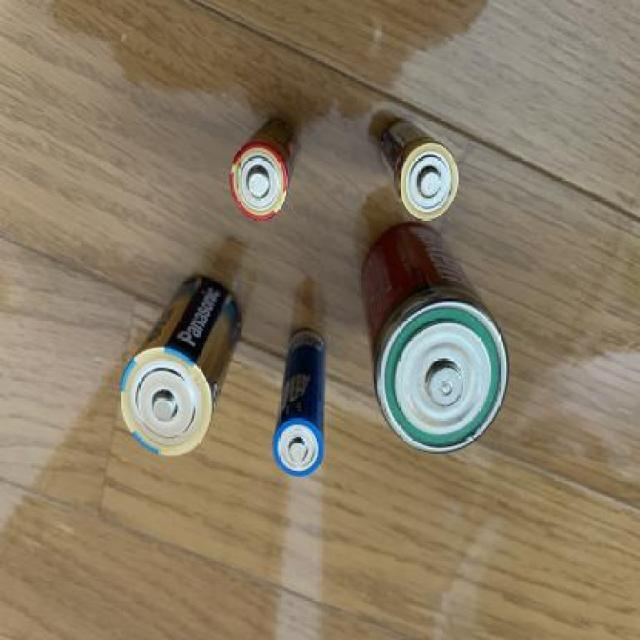hazardous waste: (358, 220, 512, 460), (115, 271, 248, 458), (270, 326, 330, 484), (375, 118, 463, 224), (228, 113, 302, 225)
